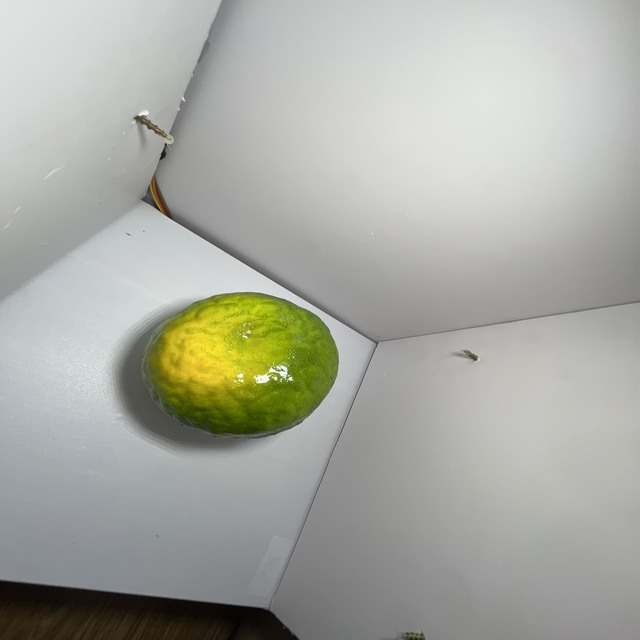Cam xanh: (138, 284, 343, 445)
